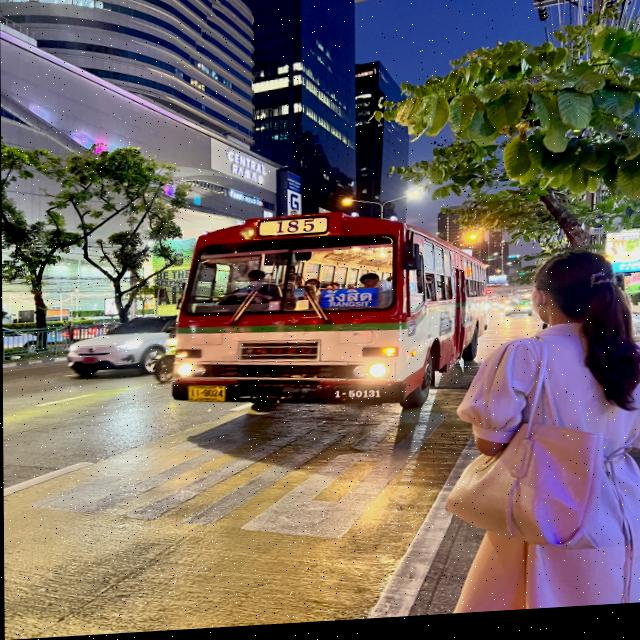BMTA-bus: (168, 211, 483, 420)
Bus-Line-Number: (270, 220, 318, 240)
Destination-Sign-Normal: (319, 290, 379, 317)
